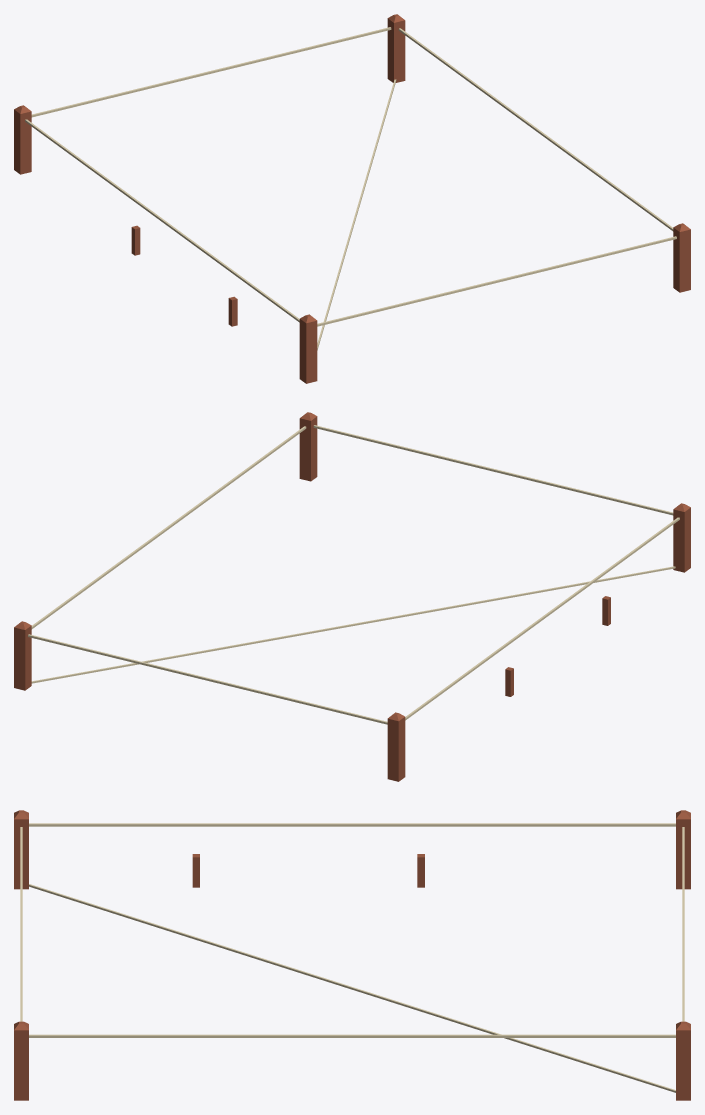
Rendered from shelter-planned.glb.
3 views of the same model, one above another, from view 1: azimuth 30°, elevation 25°; view 2: azimuth 150°, elevation 25°; view 3: azimuth 270°, elevation 25° (orthographic). The views are drawn at different scales.
Parts seen in each view (by area): view 1: string_lines, stakes; view 2: string_lines, stakes; view 3: string_lines, stakes.
Boxes of the visible parts, box(x1,y1,x2,y2) form: string_lines: box(25, 27, 676, 350); stakes: box(14, 14, 690, 383); string_lines: box(28, 425, 679, 724); stakes: box(14, 412, 690, 781); string_lines: box(20, 823, 684, 1092); stakes: box(14, 810, 690, 1100).
Bounding box in the file's own units: 4.12 × 0.66 × 5.42.
